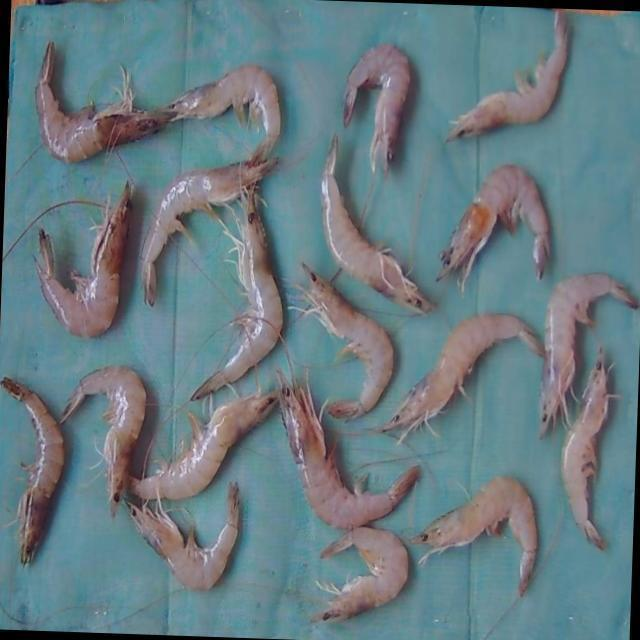shrimp: (278, 372, 418, 530), (377, 313, 544, 442), (320, 134, 435, 313), (140, 157, 277, 305), (191, 187, 281, 400), (540, 273, 639, 437), (34, 41, 169, 161), (447, 9, 568, 140), (129, 393, 276, 500), (411, 477, 538, 596), (34, 182, 129, 337), (300, 263, 393, 418), (438, 164, 550, 291), (59, 367, 145, 517), (126, 484, 238, 591), (0, 378, 62, 566), (166, 65, 280, 159), (562, 348, 614, 551), (312, 527, 408, 623), (343, 43, 410, 173)
